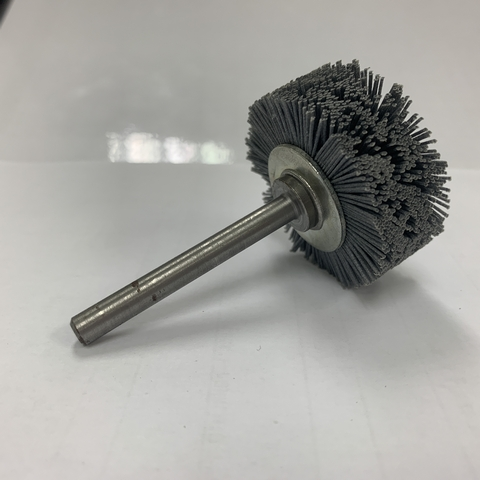Wheel Brush: (61, 35, 447, 364), (24, 59, 462, 345), (178, 59, 449, 305)
